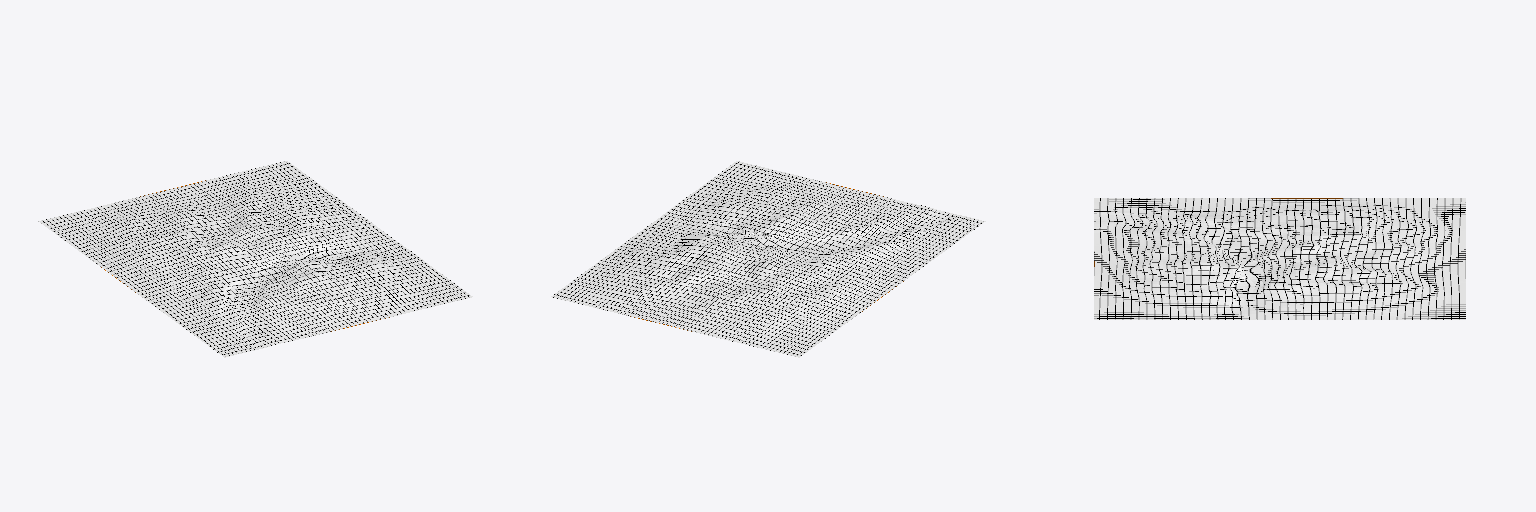
3 renders of one model, left to right at view 1: azimuth 30°, elevation 25°; view 2: azimuth 150°, elevation 25°; view 3: azimuth 270°, elevation 25°, orthographic.
Size of the model in its own units: 32.33 by 0.9416 by 41.93.
1 materials, 1 textured.